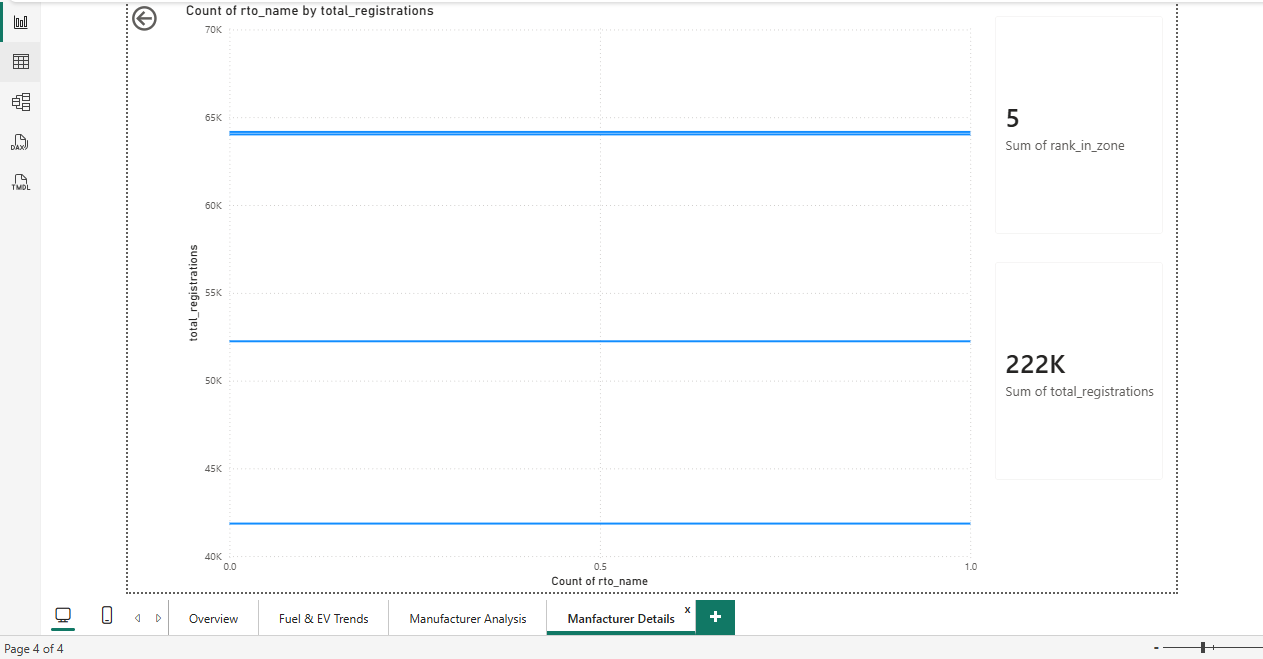

Layout of this report page (visuals, bound fields, positions):
{"tool":"powerbi","page":{"name":"Manfacturer Details","canvas":[1280,720],"ordinal":3},"visuals":[{"type":"actionButton","box":[0,0,100,40],"z":0},{"type":"cardVisual","fields":{"Data":["Sum(manufacturing_registrations.total_registrations)"]},"box":[1040.5,300,239.5,300],"z":1000},{"type":"cardVisual","fields":{"Data":["Sum(manufacturing_registrations.rank_in_zone)"]},"box":[1040.5,0,239.5,300],"z":2000},{"type":"clusteredBarChart","fields":{"Y":["CountNonNull(manufacturing_registrations.rto_name)"],"Category":["manufacturing_registrations.total_registrations"]},"box":[100.5,0,940,719.8],"z":3000}]}

Visuals, with their boxes on the page's 1280x720 design canvas (x1, y1, x2, y2). These are canvas units, not pixel positions in the 1263x659 screenshot, which may show the page scaled, cropped or inside an application window:
actionButton: box=[0, 0, 100, 40]
cardVisual - Sum(manufacturing_registrations.total_registrations): box=[1040, 300, 1280, 600]
cardVisual - Sum(manufacturing_registrations.rank_in_zone): box=[1040, 0, 1280, 300]
clusteredBarChart - CountNonNull(manufacturing_registrations.rto_name) x manufacturing_registrations.total_registrations: box=[100, 0, 1040, 720]
